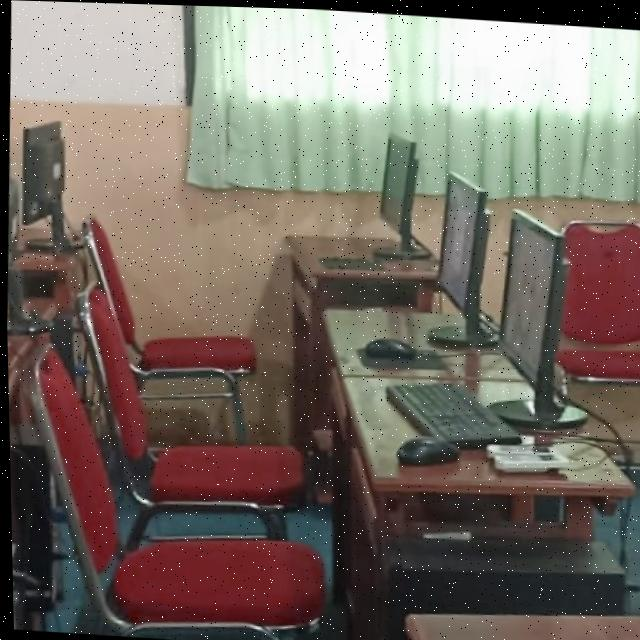onscreen: (499, 206, 554, 380), (437, 169, 477, 305), (379, 130, 414, 227)
